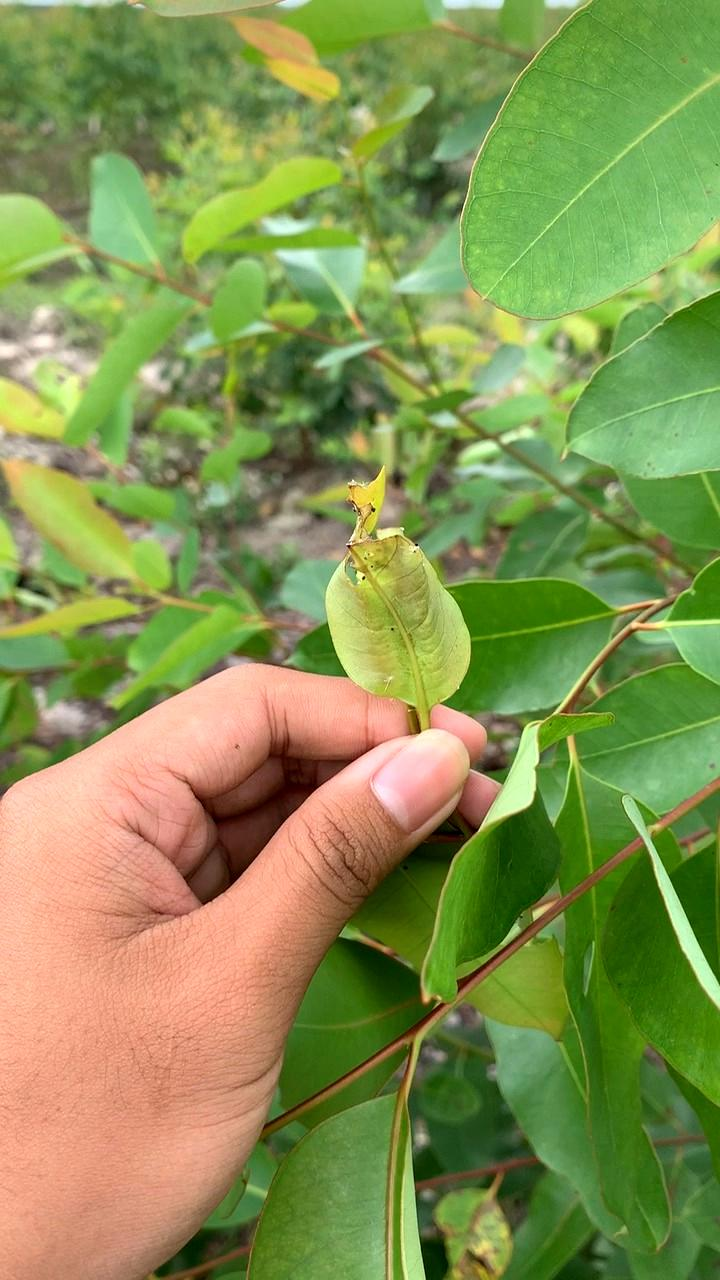Leaf Roller - Leaf: (315, 473, 489, 723)
